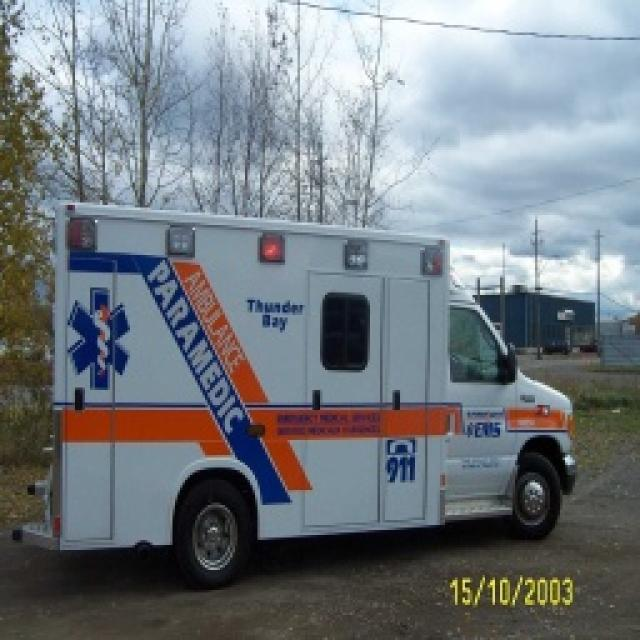emergency-vehicle: (26, 175, 614, 607)
